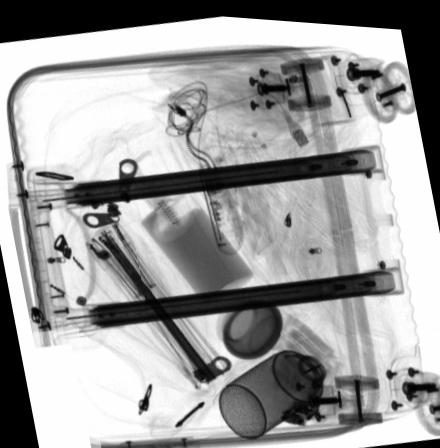Sprayer: (217, 331, 341, 435)
